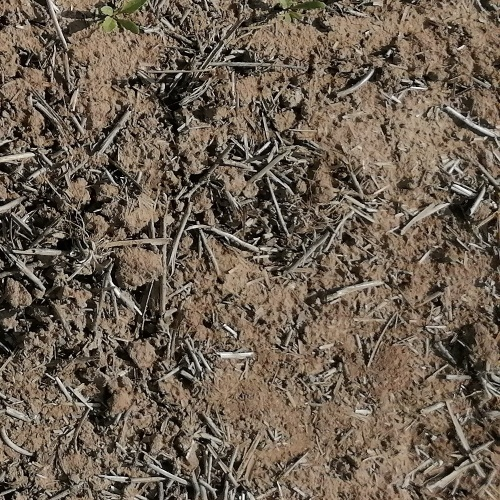beet: (98, 0, 147, 34), (280, 0, 322, 26)
